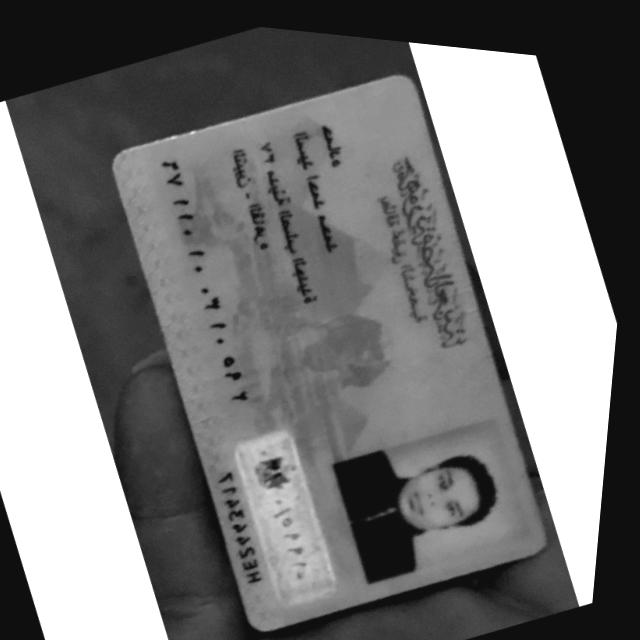id_card: (113, 75, 545, 631)
